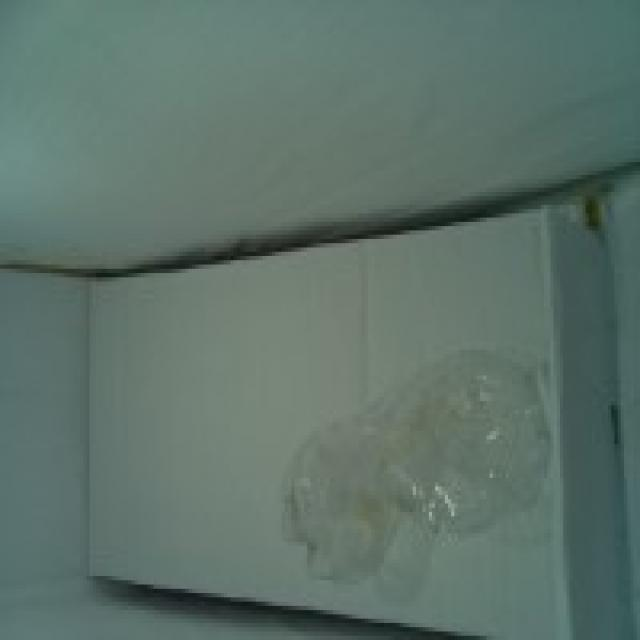plastic bottle: (280, 344, 552, 604)
